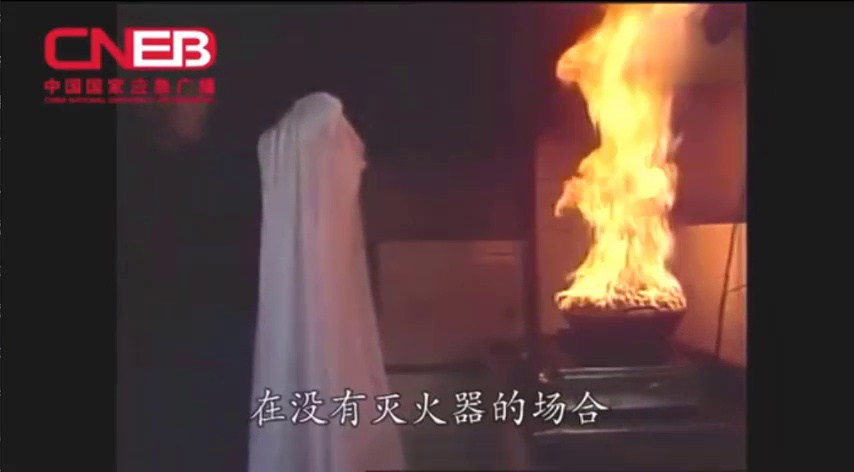fire: (542, 1, 741, 335)
